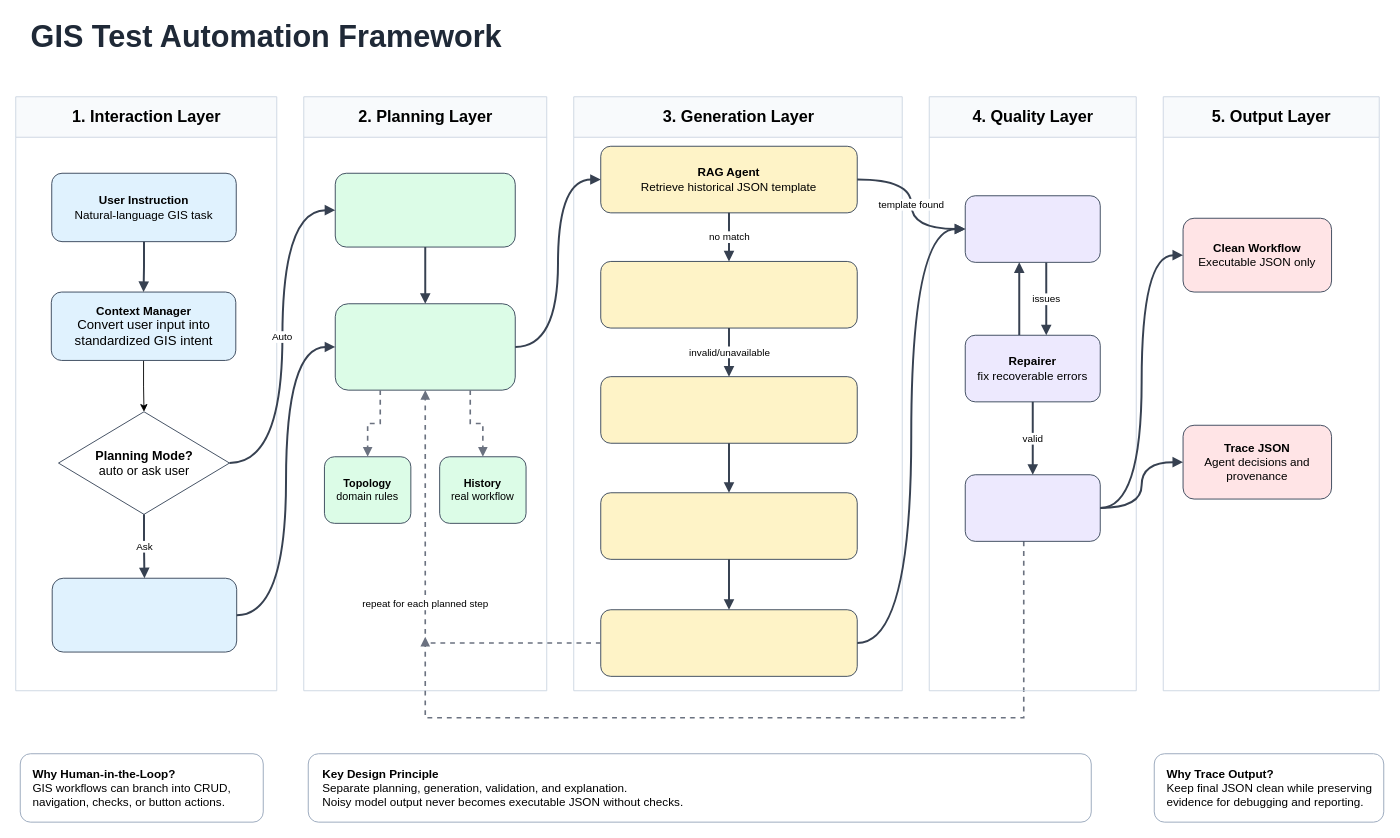
The diagram is 1400 pixels wide and 838 high, and some of its shapes have lost their labels. Here are the shapes that lost their labels. From the top down, the centre of each, then its label:
At [424,209]: "Planner Agent Creates step intents".
At [1032,228]: "Validator schema and IDs".
At [728,294]: "Fine-Tuned Model Agent Generate JSON when RAG has no match".
At [424,346]: "Candidate Provider Combines topology and historical transitions".
At [728,409]: "Fallback Agent Schema-safe deterministic generation".
At [728,525]: "Template Normalizer Map RAG/LLM output to step schema".
At [1032,507]: "Reviewer status and confidence".
At [144,614]: "Human Choice Pause at ambiguous decision points".
At [728,642]: "Step Materializer Append executable workflow step".
